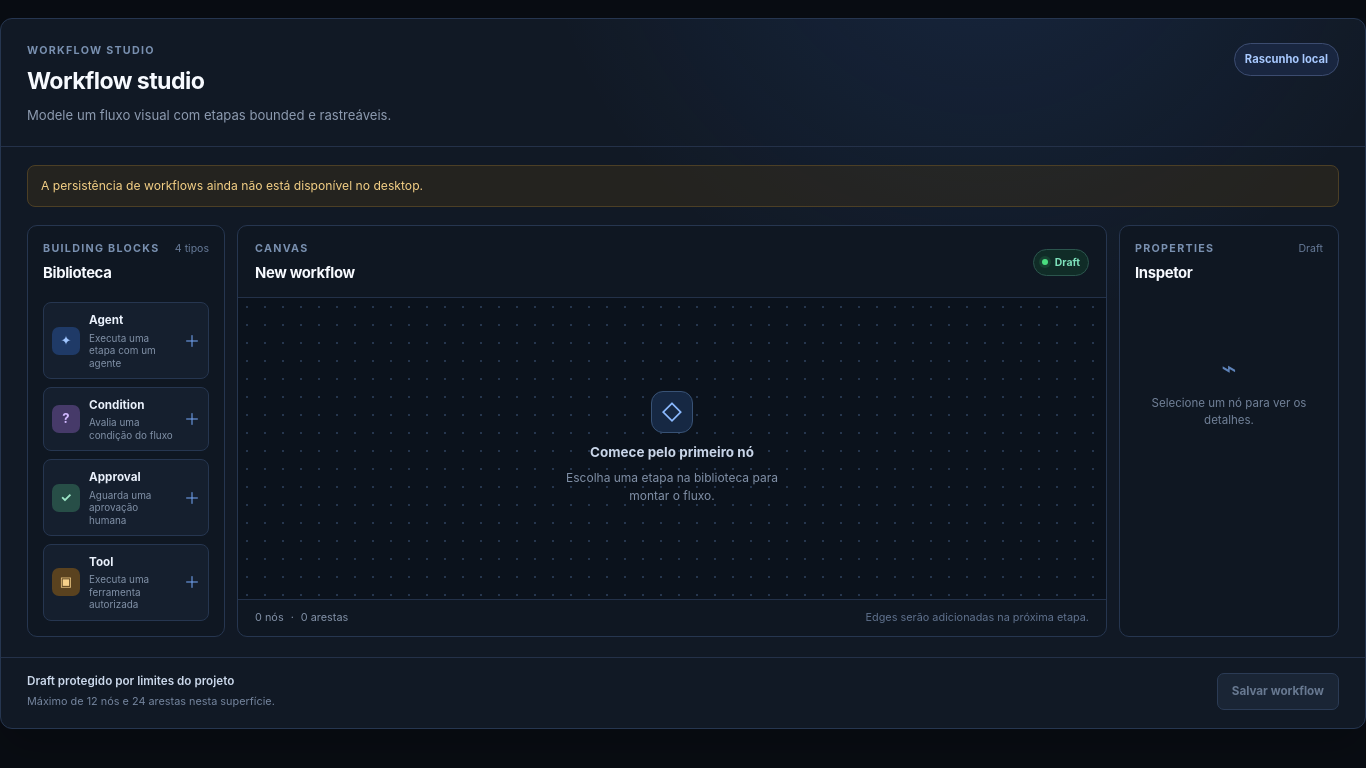
Test: Workflow surface › keeps the draft project-scoped and honest when persistence is unavailable
Expected: the heading "Workflow studio" is shown, [27, 67, 204, 95]
Expected: the text "Rascunho local" is shown, [1234, 43, 1339, 76]
Click the button with aria-label "Adicionar nó Agent" at (126, 341), box [43, 302, 209, 379]
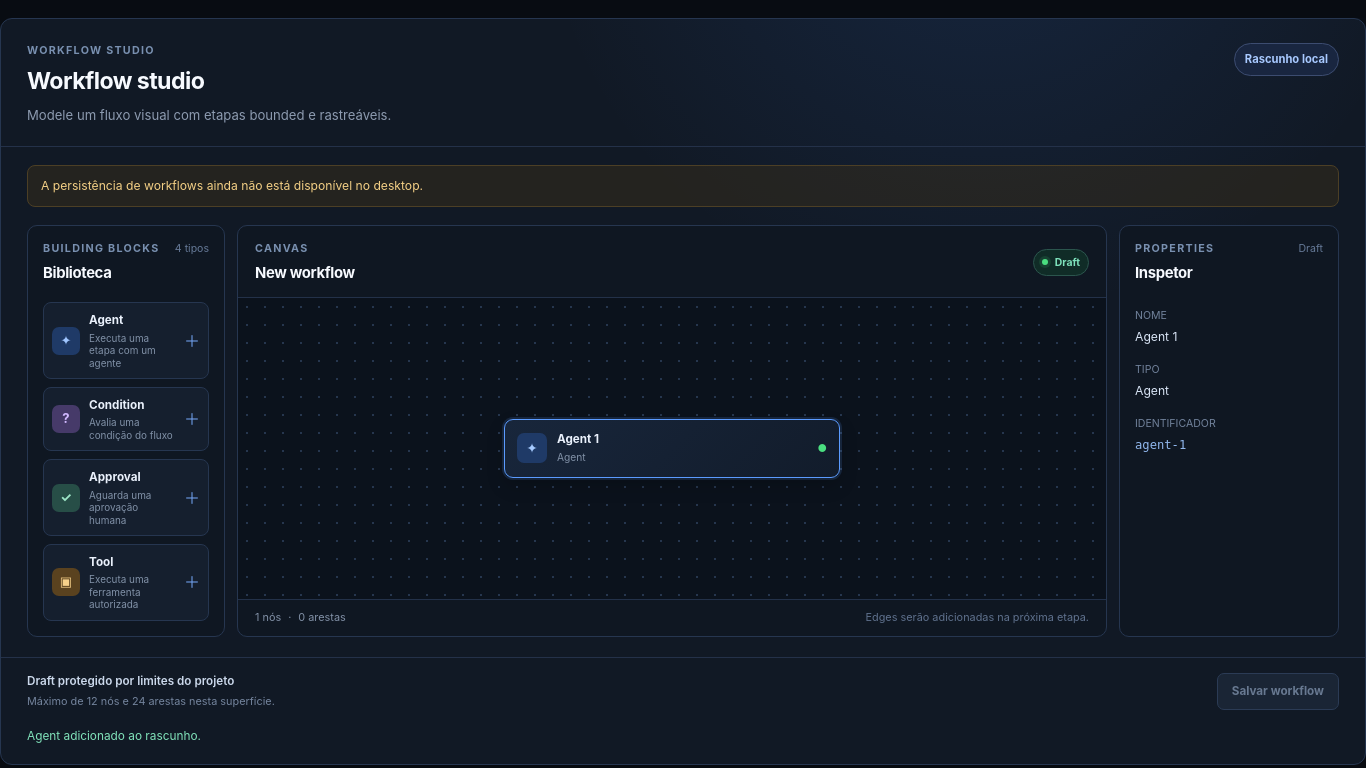
Expected: the button "Salvar workflow" is disabled, [1217, 673, 1339, 710]
Now the list item "Agent 1" is shown, box [504, 419, 840, 478]
